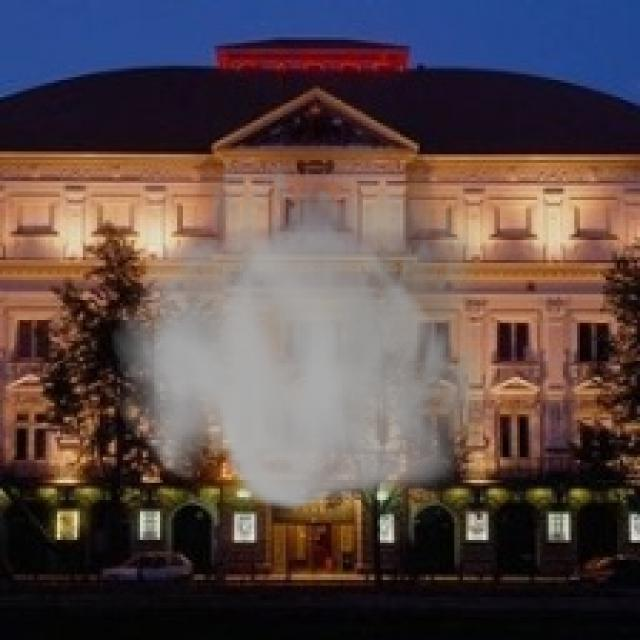smoke: (111, 117, 506, 517)
